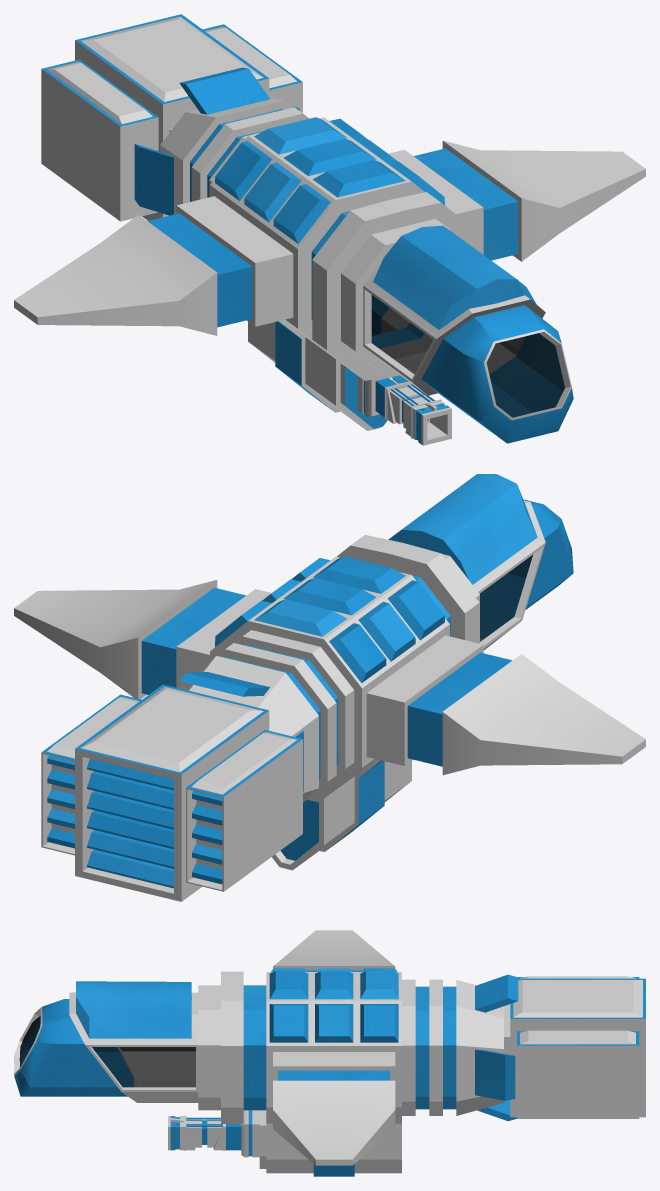
Rendered from BEB.fbx.
3 renders of one model, top to bottom at view 1: azimuth 30°, elevation 25°; view 2: azimuth 150°, elevation 25°; view 3: azimuth 270°, elevation 25°, orthographic. The views are drawn at different scales.
Visible parts, largest first — view 1: BEB; view 2: BEB; view 3: BEB.
Part boxes in pixels (box(x1,y1,x2,y2)): BEB: box(14, 14, 645, 445); BEB: box(14, 474, 645, 901); BEB: box(14, 930, 645, 1176).
Bounding box in the file's own units: 8 × 3.15 × 9.31.
